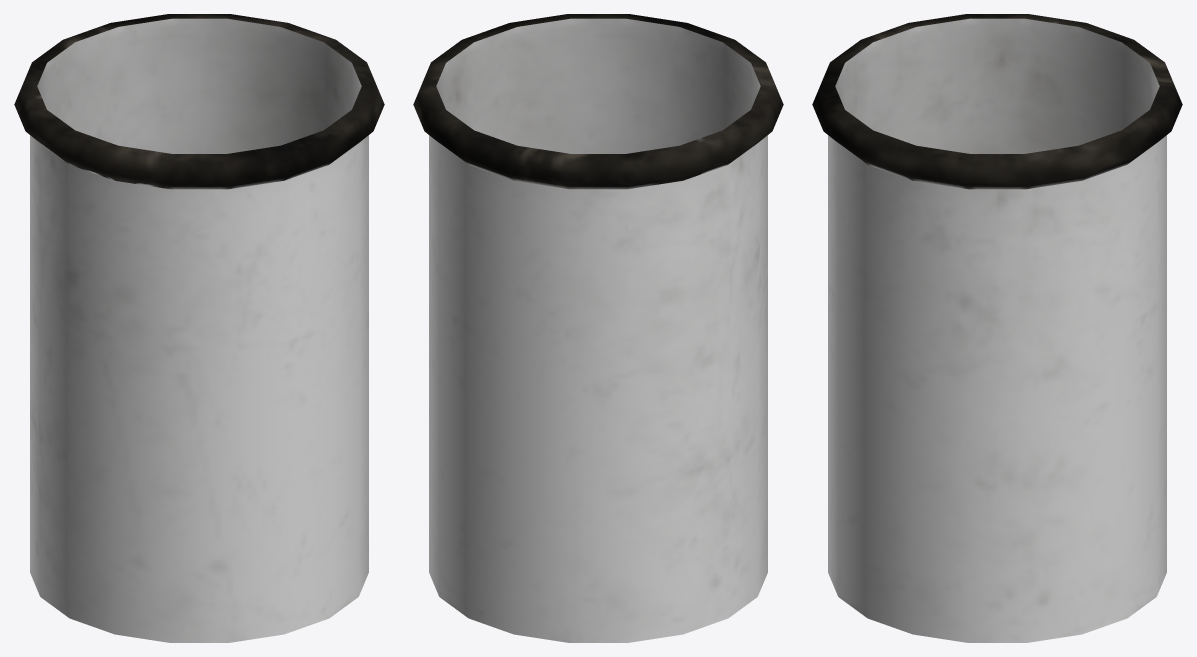
Rendered from Cup_Steel.FBX.
3 renders of one model, left to right at view 1: azimuth 30°, elevation 25°; view 2: azimuth 150°, elevation 25°; view 3: azimuth 270°, elevation 25°, orthographic.
Visible parts, largest first — view 1: Cup_Steel; view 2: Cup_Steel; view 3: Cup_Steel.
Part boxes in pixels (<box>): Cup_Steel: <box>14,14,384,642</box>; Cup_Steel: <box>413,14,783,642</box>; Cup_Steel: <box>812,14,1182,642</box>.
Size of the model in its own units: 10.17 by 10.33 by 14.96.
